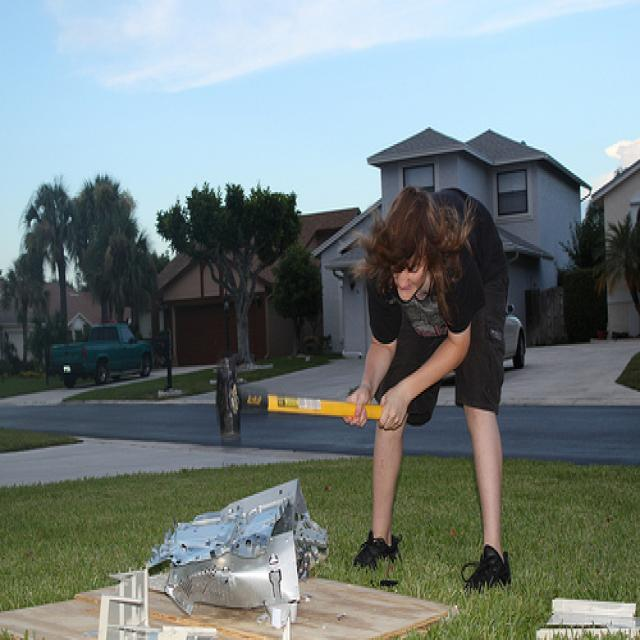hammer: (184, 309, 364, 463)
